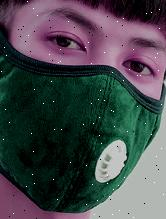with_mask: (1, 2, 166, 219)
